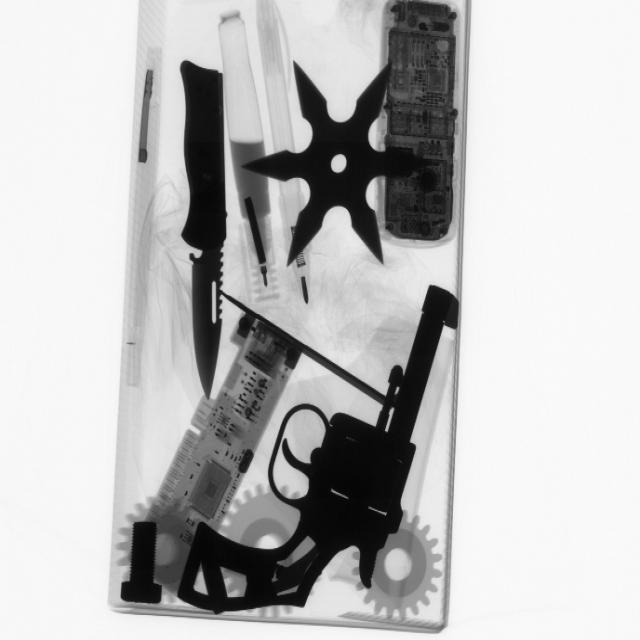GUN: (169, 284, 460, 625)
KNIFE: (165, 57, 241, 390)
SHURIKEN: (252, 53, 425, 270)
